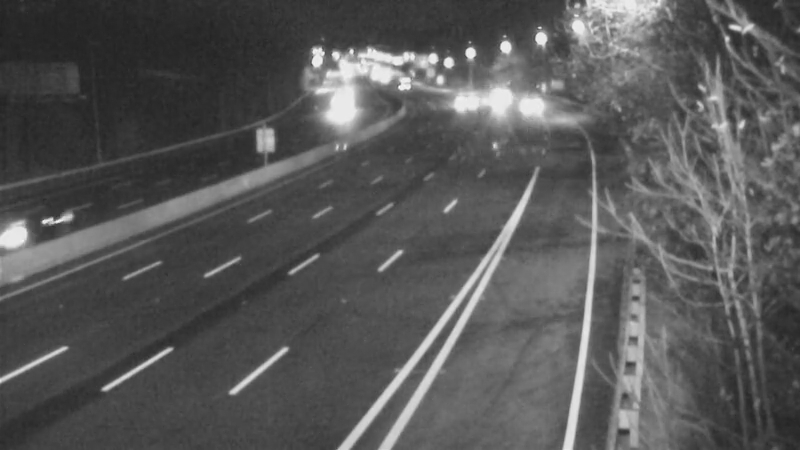vehicle: (1, 188, 71, 268), (373, 56, 423, 106), (474, 68, 524, 118), (502, 83, 552, 133), (459, 77, 509, 127), (437, 75, 487, 125), (314, 81, 364, 131)
